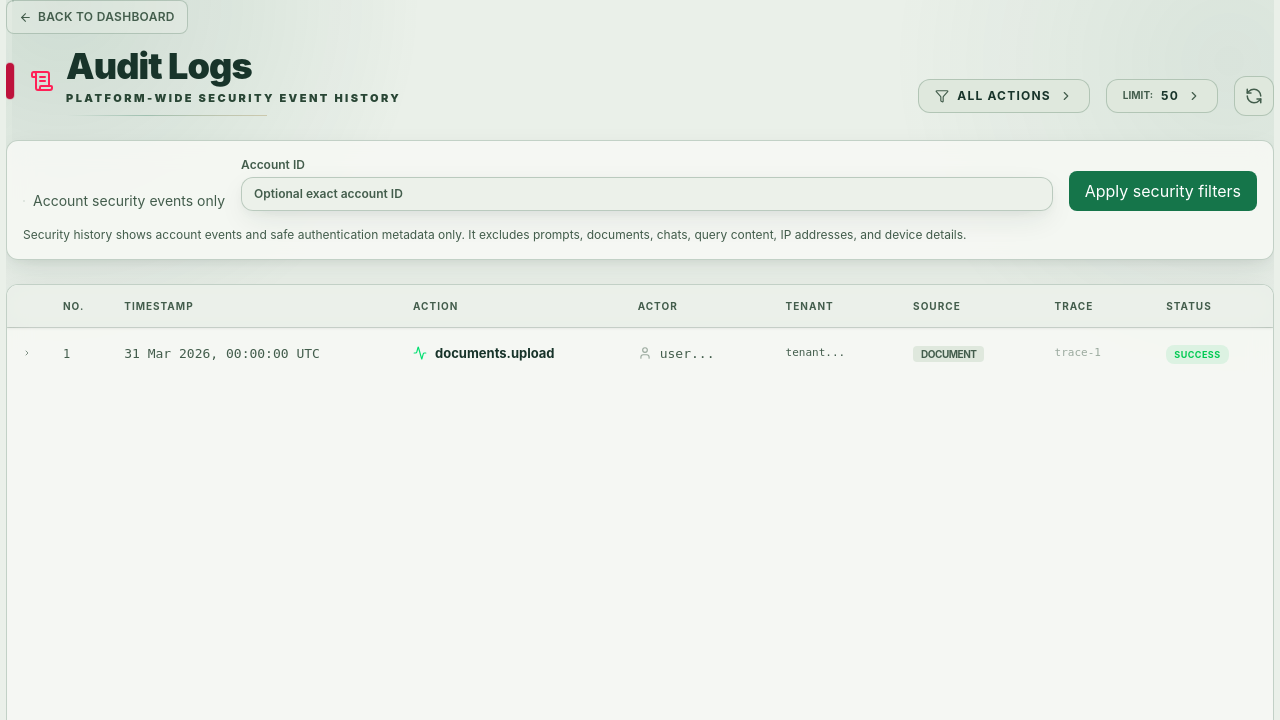
Test: audit logs page › renders lowercase success status as a success badge
Click the text "documents.upload" at (495, 353), box [435,344,555,363]
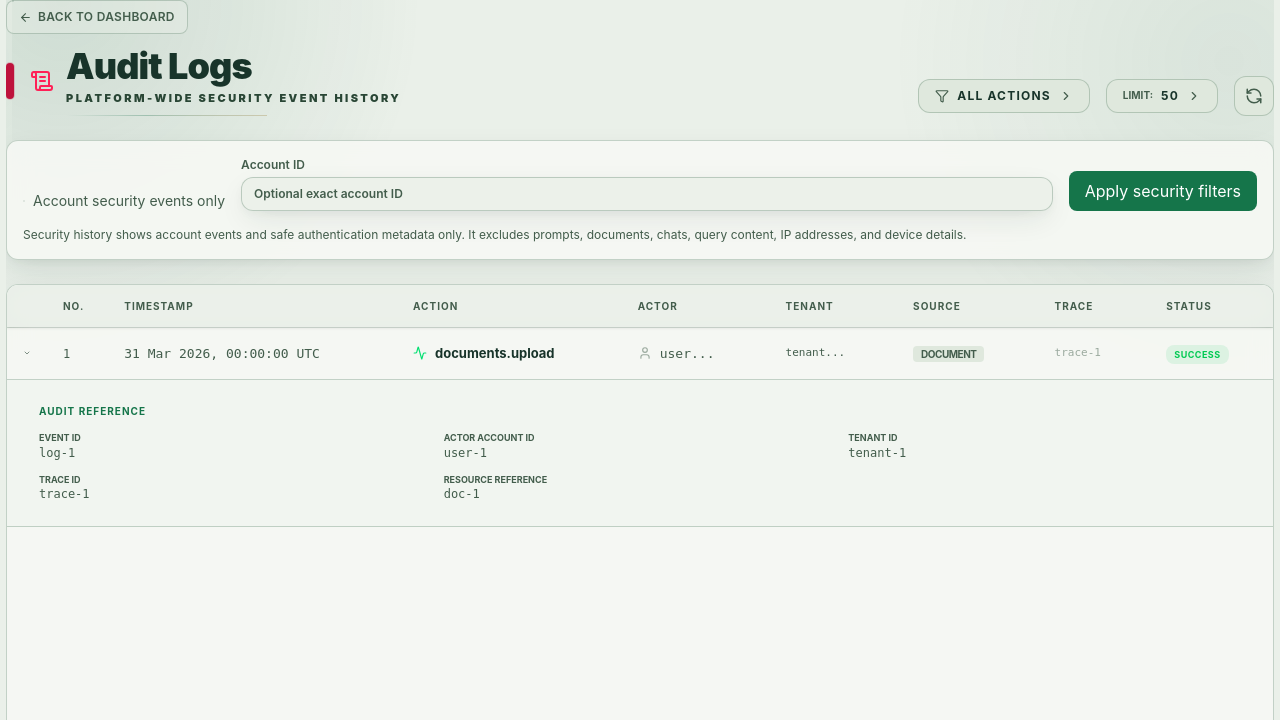
Expected: the text "doc-1" is shown, [444,487,480,501]
